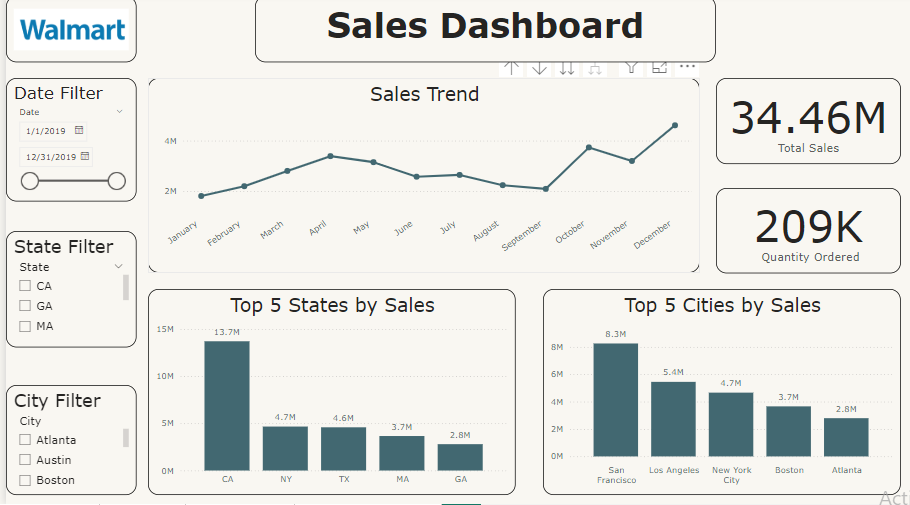

The dashboard page shown, as its layout file describes it:
{"tool":"powerbi","page":{"name":"Sales Visuals","canvas":[1280,720],"ordinal":2},"visuals":[{"type":"slicer","title":"Date","fields":{"Values":["sales_forecasting_cleaned.Order_Date"]},"box":[0,15.8,205.9,185.8],"z":0},{"type":"slicer","title":"State","fields":{"Values":["sales_forecasting_cleaned.State"]},"box":[0,276.5,205.9,159.8],"z":1000},{"type":"slicer","title":"City","fields":{"Values":["sales_forecasting_cleaned.City"]},"box":[0,466.6,210.2,155.5],"z":2000},{"type":"lineChart","title":"Monthly Sales Trend","fields":{"Y":["Sum(sales_forecasting_cleaned.Total_Sales)"],"Category":["sales_forecasting_cleaned.Order_Date.Variation.Date Hierarchy.Year","sales_forecasting_cleaned.Order_Date.Variation.Date Hierarchy.Quarter","sales_forecasting_cleaned.Order_Date.Variation.Date Hierarchy.Month","sales_forecasting_cleaned.Order_Date.Variation.Date Hierarchy.Day"]},"box":[239,15.8,800.6,267.8],"z":3000},{"type":"card","title":"Total Sales","fields":{"Values":["Sum(sales_forecasting_cleaned.Total_Sales)"]},"box":[1049.9,114.2,230.1,99.1],"z":4000},{"type":"columnChart","title":"Top 5 States by Sales","fields":{"Category":["sales_forecasting_cleaned.State"],"Y":["Sum(sales_forecasting_cleaned.Total_Sales)"]},"box":[239,288,800.6,391.7],"z":5000},{"type":"card","title":"Quantity Ordered","fields":{"Values":["Sum(sales_forecasting_cleaned.Quantity)"]},"box":[1049.8,417.6,230.4,96.5],"z":6000}]}

Visuals, with their boxes in screenshot pixels (x1, y1, x2, y2), scaled from the page's 1280x720 canvas onto the 910x505 screenshot:
"Date" slicer: [x1=0, y1=11, x2=146, y2=141]
"State" slicer: [x1=0, y1=194, x2=146, y2=306]
"City" slicer: [x1=0, y1=327, x2=149, y2=436]
"Monthly Sales Trend" lineChart: [x1=170, y1=11, x2=739, y2=199]
"Total Sales" card: [x1=746, y1=80, x2=909, y2=150]
"Top 5 States by Sales" columnChart: [x1=170, y1=202, x2=739, y2=477]
"Quantity Ordered" card: [x1=746, y1=293, x2=909, y2=361]
